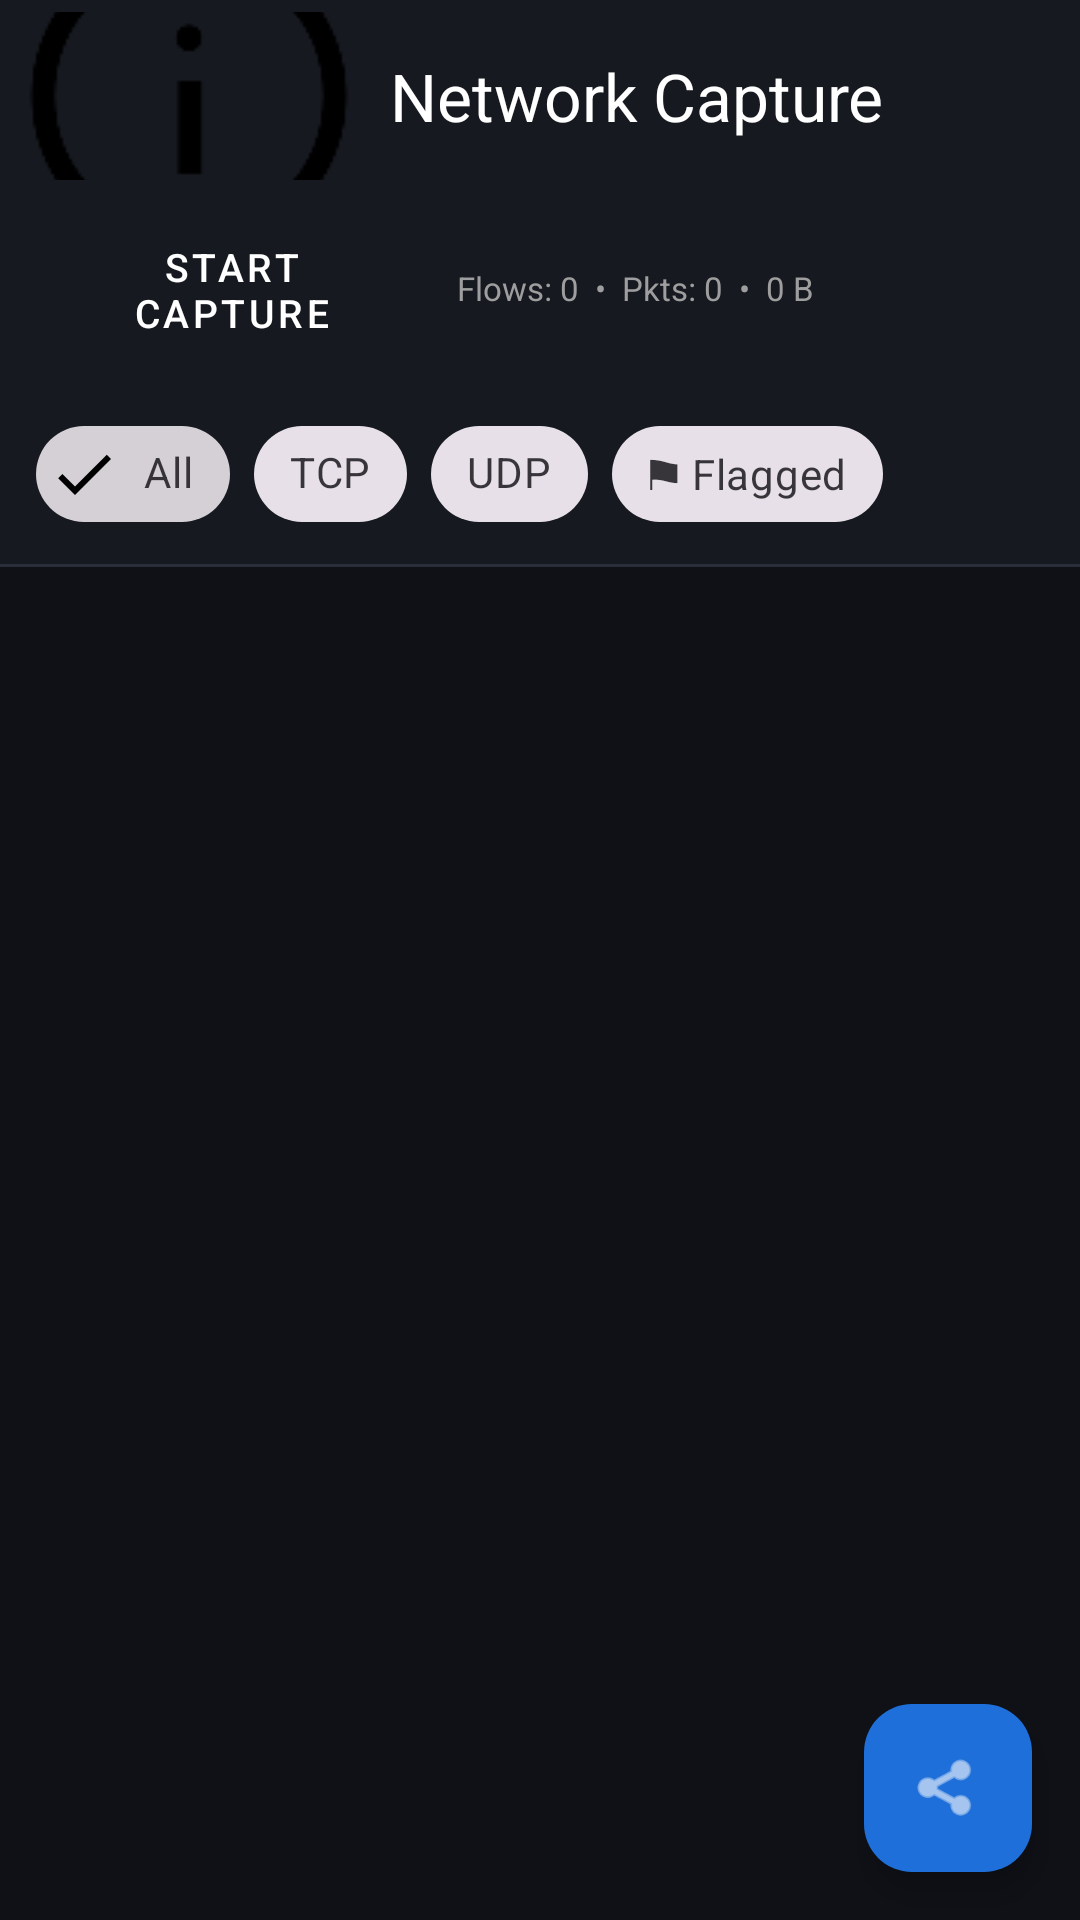

Where to tap for icons on this 1080w x 1920h app screen, as [x,y]:
Export CSV: [948,1788]
